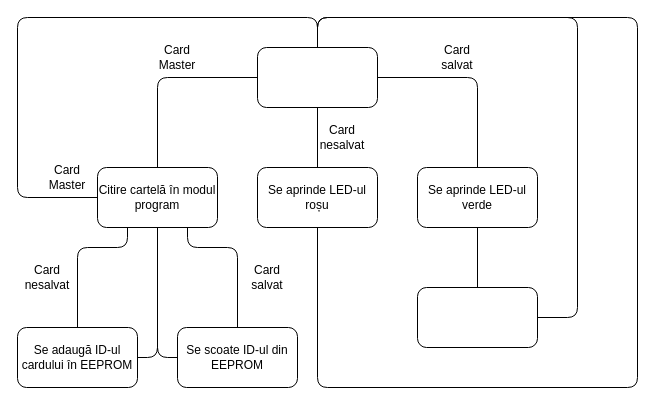
Some shapes in this 656 by 406 pixel diagram are drawn without their labels. The centre of each missing label's shape, as x and y in pixels:
"Citire cartelă" goes at [317,77].
"Se deschide ușa" goes at [477,317].
